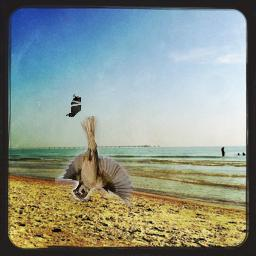Crow: (65, 95, 82, 118)
Sparrow: (55, 116, 133, 206)
